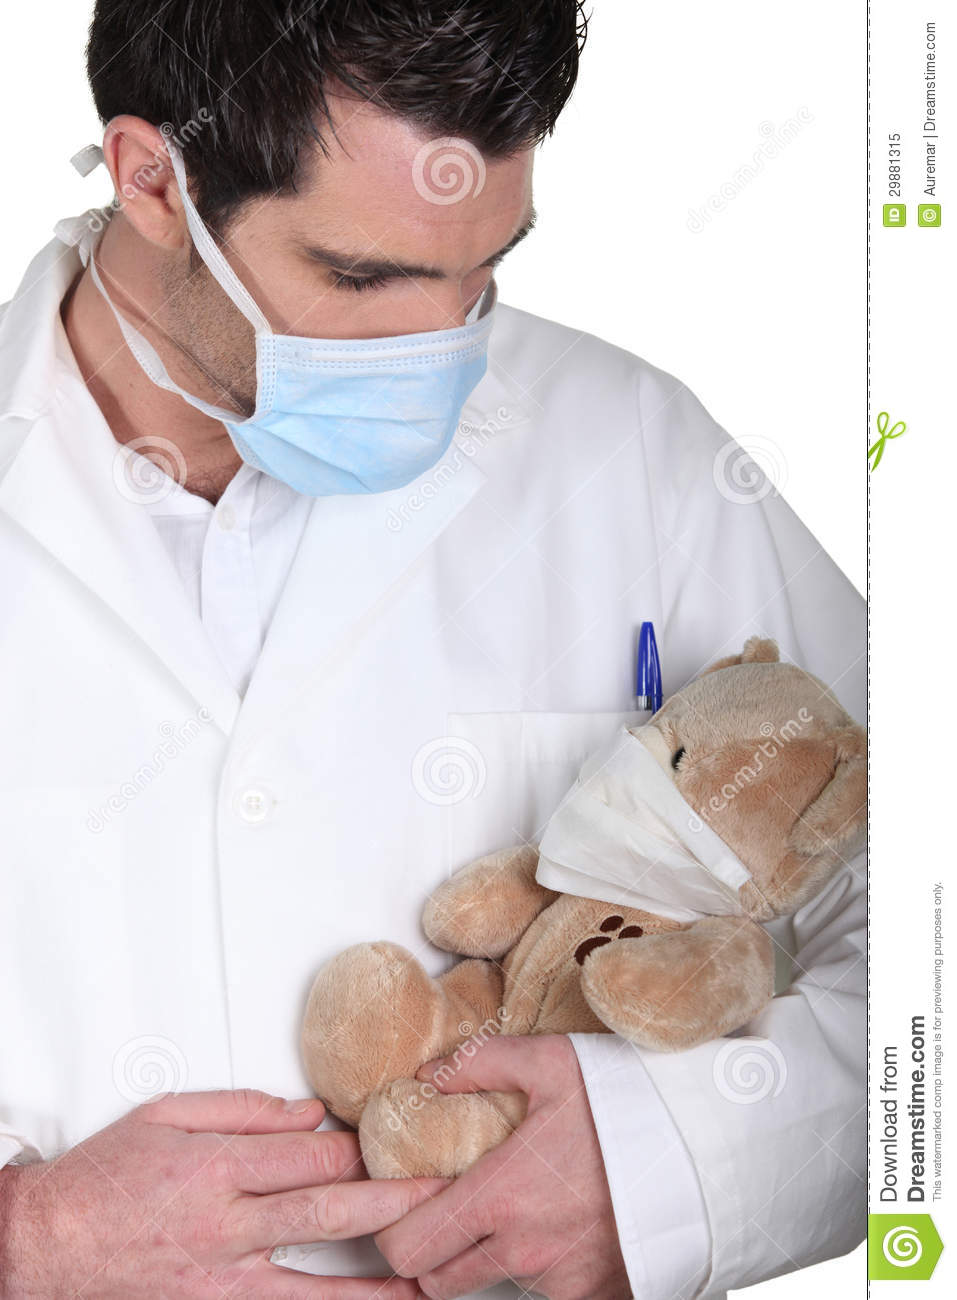mask: (226, 325, 490, 503)
